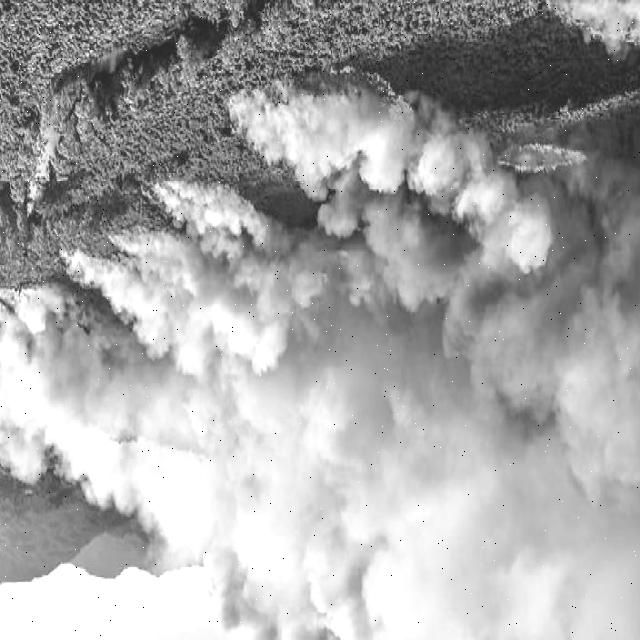api: (531, 134, 589, 164), (388, 81, 418, 139)
asap: (274, 384, 640, 640), (107, 231, 640, 383), (58, 380, 278, 634), (1, 286, 84, 479), (245, 90, 413, 182), (405, 128, 523, 244), (165, 177, 264, 245), (563, 3, 640, 66)
